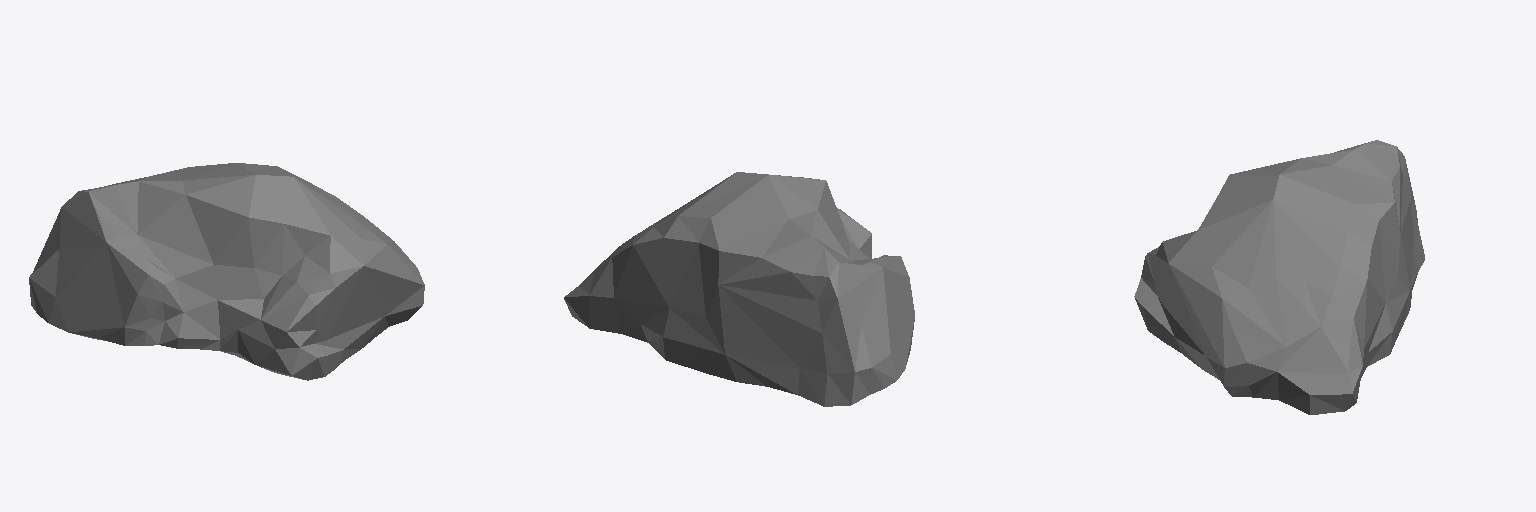
File: rock03.obj
3 renders of one model, left to right at view 1: azimuth 30°, elevation 25°; view 2: azimuth 150°, elevation 25°; view 3: azimuth 270°, elevation 25°, orthographic.
Visible parts, largest first — view 1: ROCK_002; view 2: ROCK_002; view 3: ROCK_002.
Part boxes in pixels (left/top/right/bottom): ROCK_002: left=29, top=163, right=424, bottom=380; ROCK_002: left=564, top=172, right=914, bottom=406; ROCK_002: left=1134, top=140, right=1424, bottom=414.
Bounding box in the file's own units: 8.28 × 3.83 × 6.2.